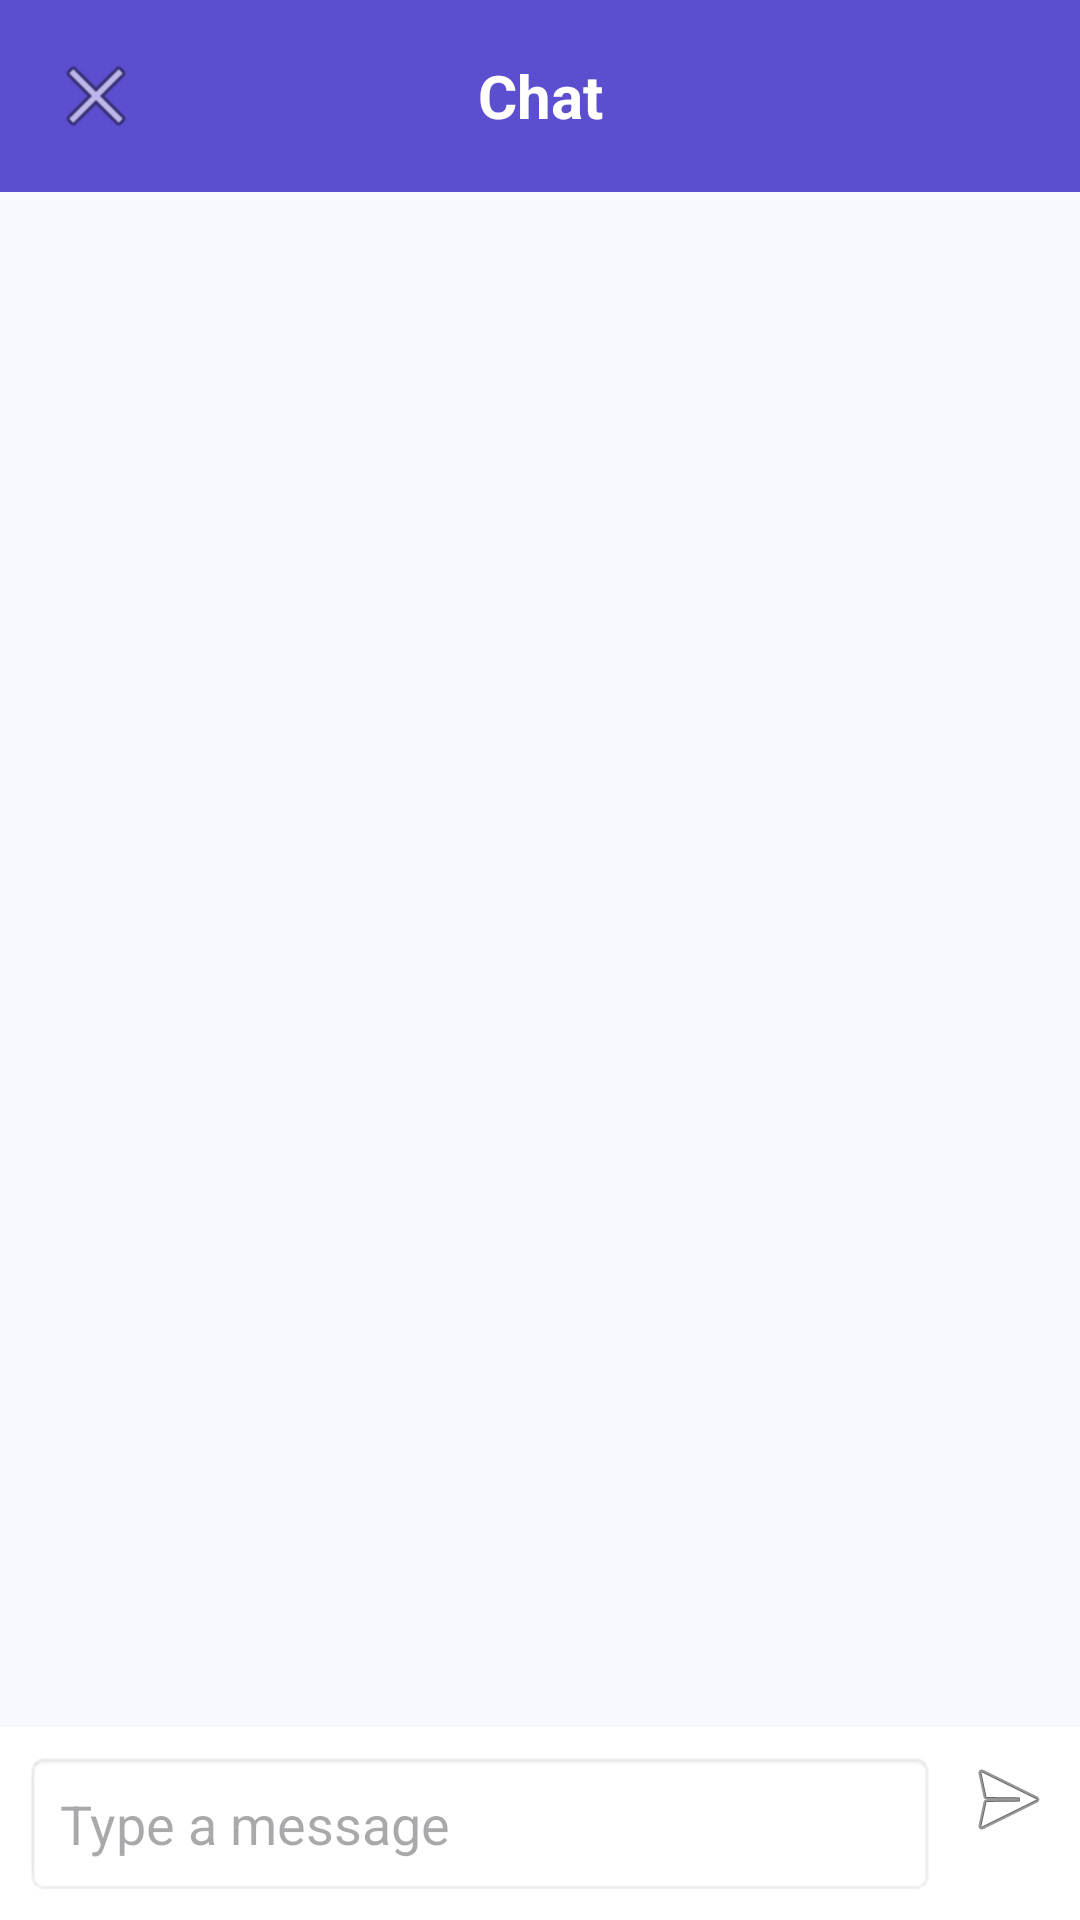

Where to tap for icons on this 1080*1920 app screen, as (x=x, y=y):
Send: (x=1009, y=1799)
